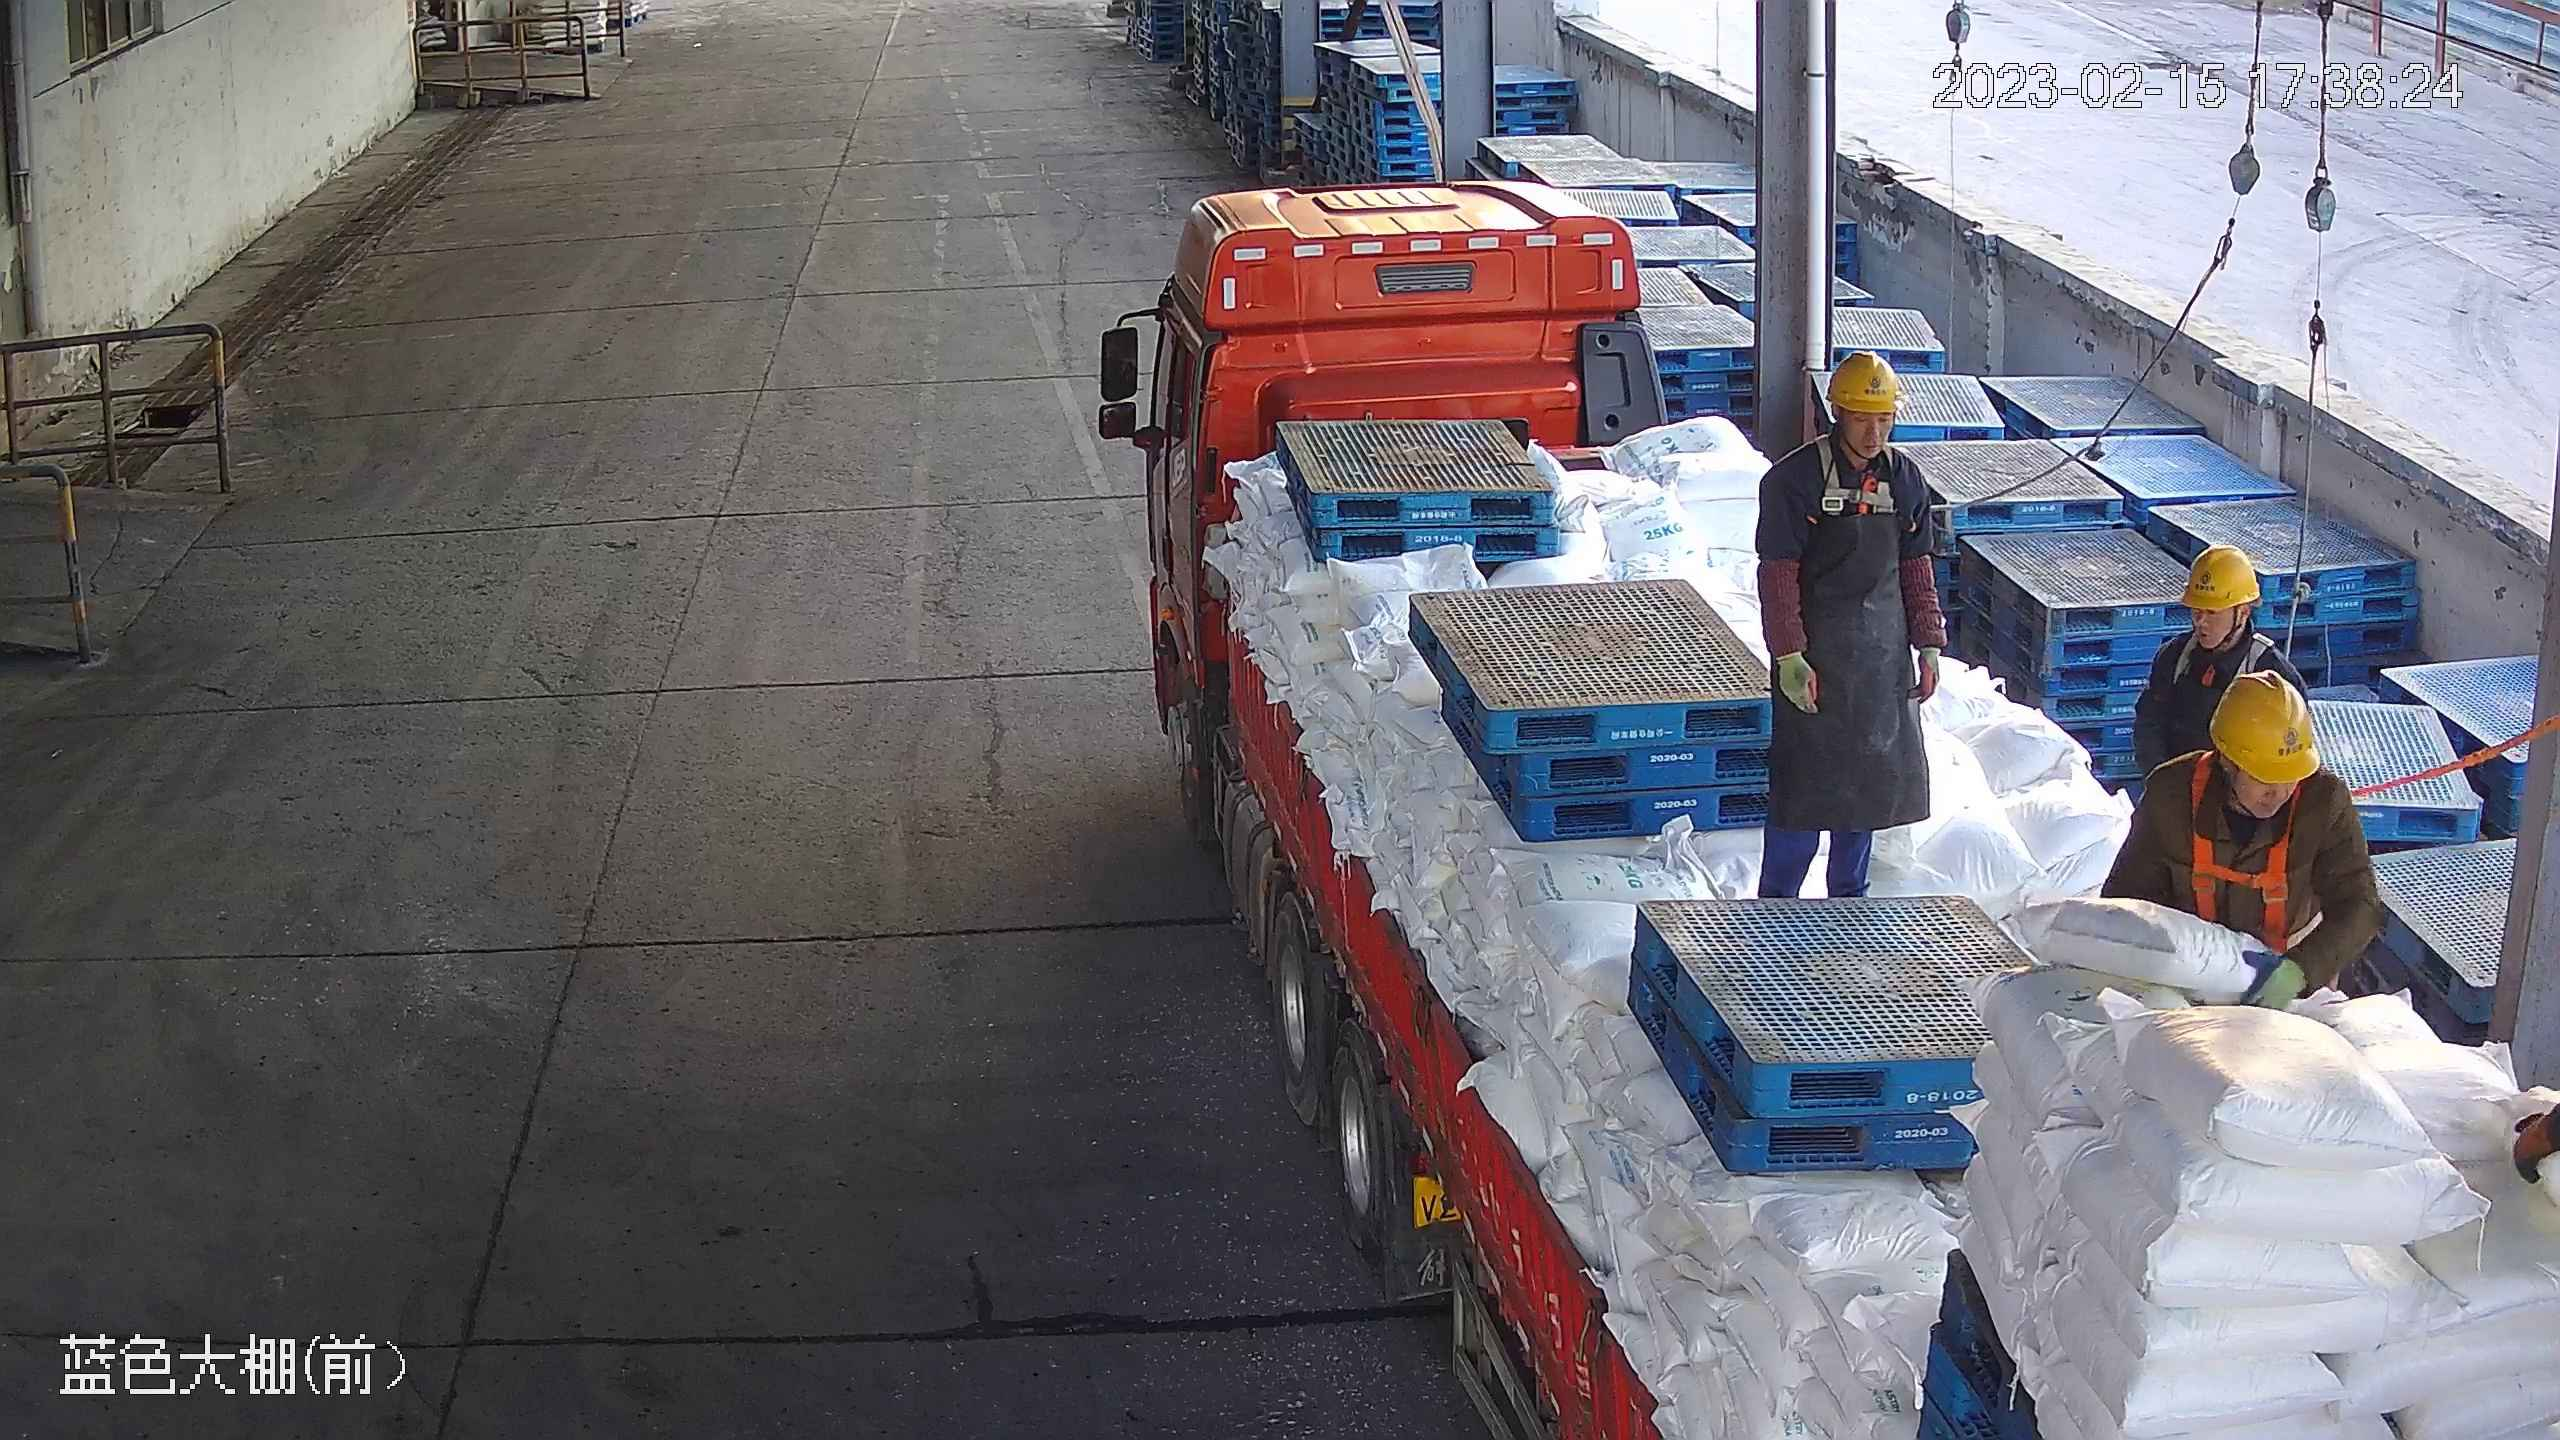belt: (2186, 804, 2311, 951), (1816, 455, 1906, 530), (2172, 639, 2253, 688)
head: (2156, 676, 2349, 865), (1767, 351, 1937, 506), (2155, 550, 2302, 681)
helmet: (2211, 674, 2321, 778), (1820, 346, 1904, 413), (2181, 543, 2260, 606)
people: (1746, 353, 1948, 929)
truck: (1093, 171, 2560, 1440)
